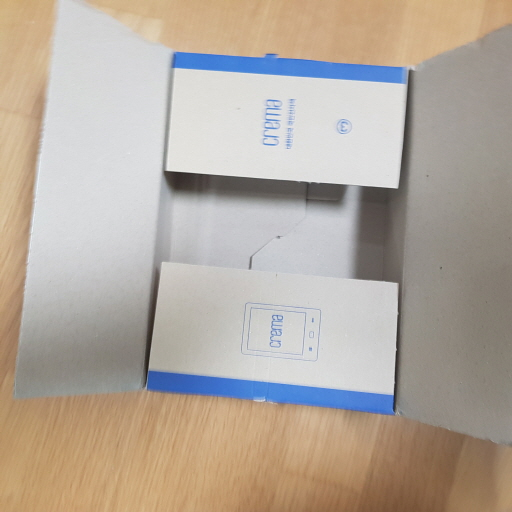Paper_0: (12, 1, 511, 448)
